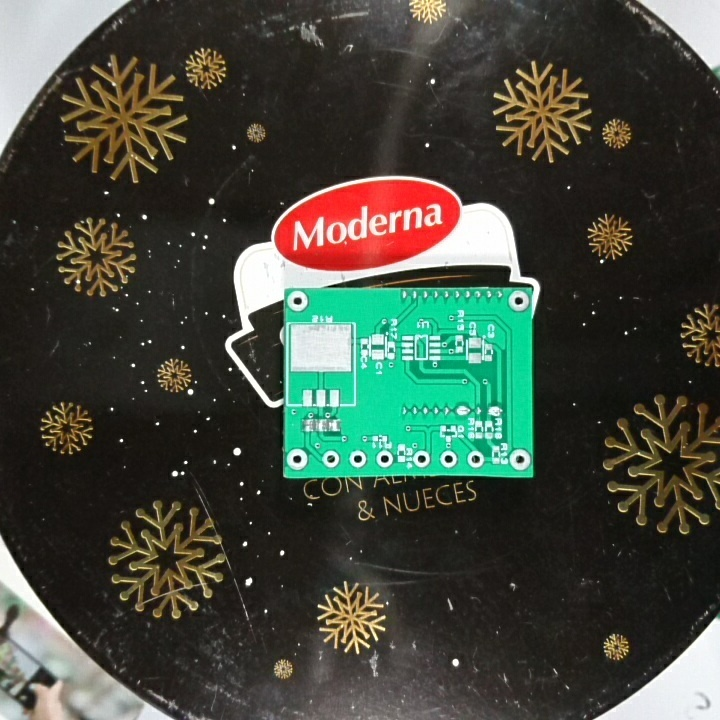F: (285, 289, 310, 315), (285, 447, 310, 472), (507, 446, 531, 471), (507, 290, 531, 314), (320, 448, 340, 472), (347, 449, 369, 470), (374, 449, 395, 470), (438, 449, 460, 469), (465, 449, 485, 470), (411, 450, 433, 469)
P: (484, 403, 506, 419), (452, 403, 473, 418)
